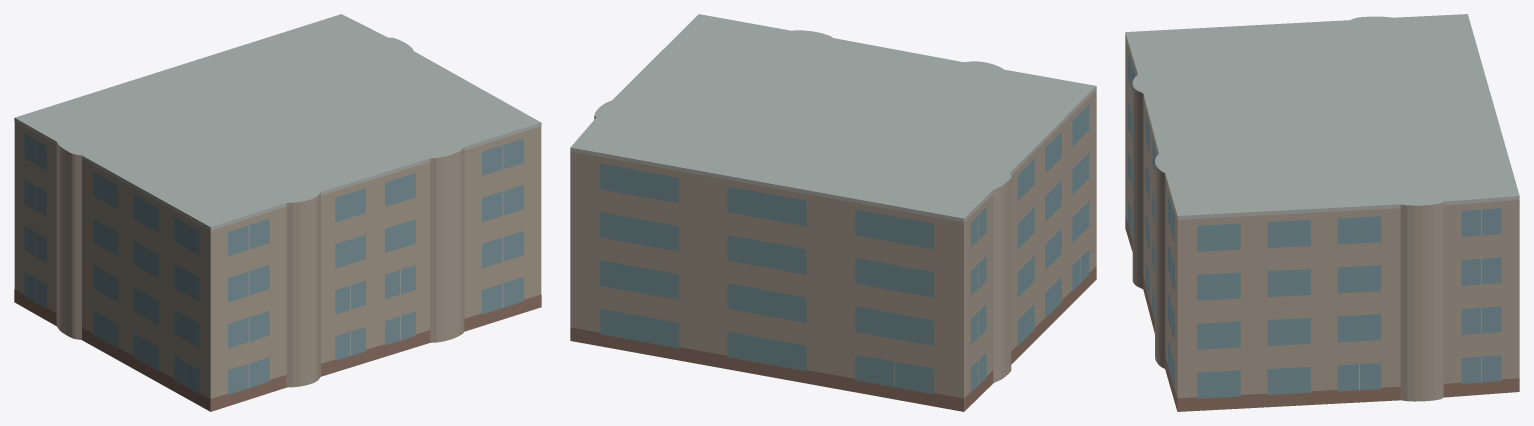
Rendered from survey-upis-32576964.glb.
3 renders of one model, left to right at view 1: azimuth 30°, elevation 25°; view 2: azimuth 150°, elevation 25°; view 3: azimuth 270°, elevation 25°, orthographic. The views are drawn at different scales.
Visible parts, largest first — view 1: survey-upis-32576964.tmp; view 2: survey-upis-32576964.tmp; view 3: survey-upis-32576964.tmp.
Boxes of the visible parts, x1,y1,x2,y2 form: survey-upis-32576964.tmp: (14,14,541,411); survey-upis-32576964.tmp: (570,14,1096,411); survey-upis-32576964.tmp: (1125,14,1519,411).
Bounding box in the file's own units: 27.43 × 12.4 × 22.64.
